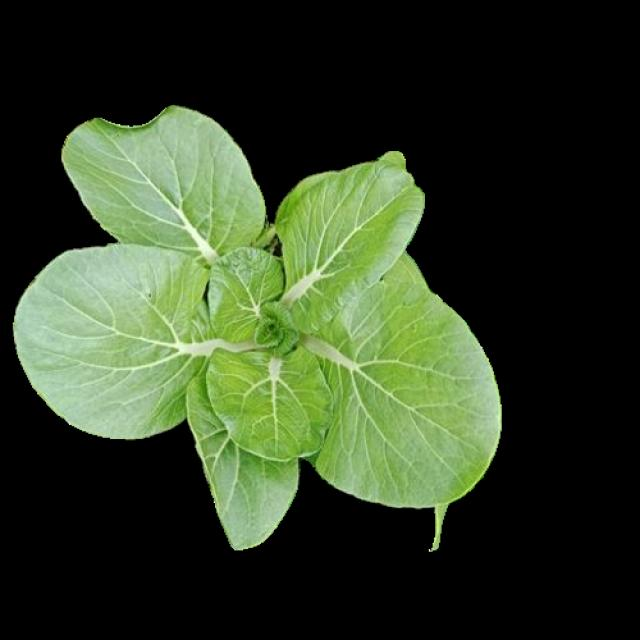healthy: (12, 102, 496, 543)
mature: (14, 105, 498, 545)
